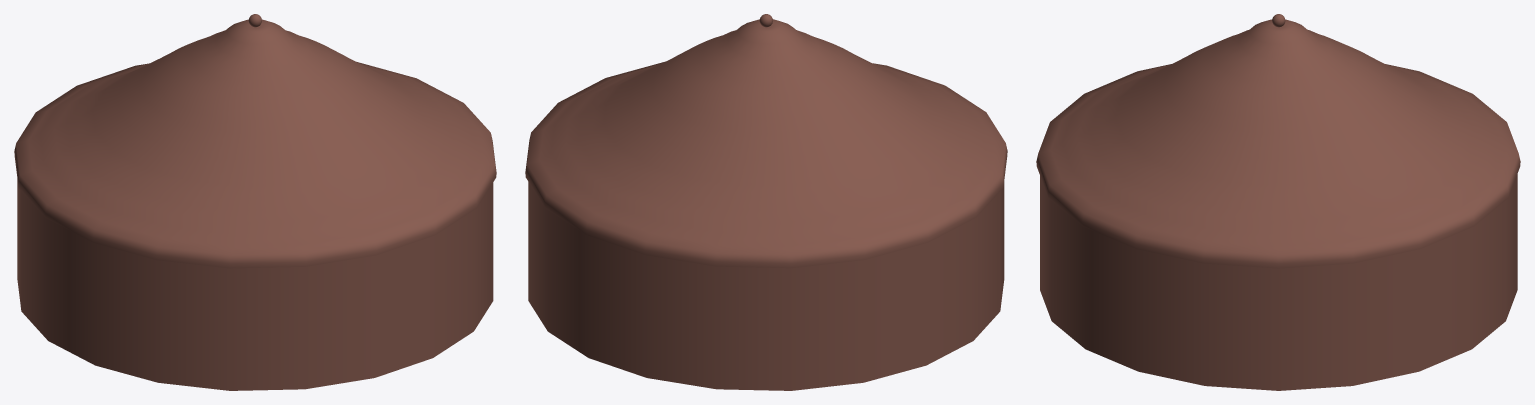
Rendered from Circo.fbx.
3 views of the same model, side by side, from view 1: azimuth 30°, elevation 25°; view 2: azimuth 150°, elevation 25°; view 3: azimuth 270°, elevation 25° (orthographic).
Visible parts, largest first — view 1: revolvedSurface1, pCylinder3; view 2: revolvedSurface1, pCylinder3; view 3: revolvedSurface1, pCylinder3.
Boxes of the visible parts, bbox=[...] form: revolvedSurface1: bbox=[14, 19, 496, 268]; pCylinder3: bbox=[17, 179, 493, 390]; revolvedSurface1: bbox=[525, 19, 1007, 268]; pCylinder3: bbox=[528, 182, 1004, 390]; revolvedSurface1: bbox=[1036, 19, 1520, 268]; pCylinder3: bbox=[1040, 174, 1517, 390].
Bounding box in the file's own units: 1617 × 1019 × 1617.
